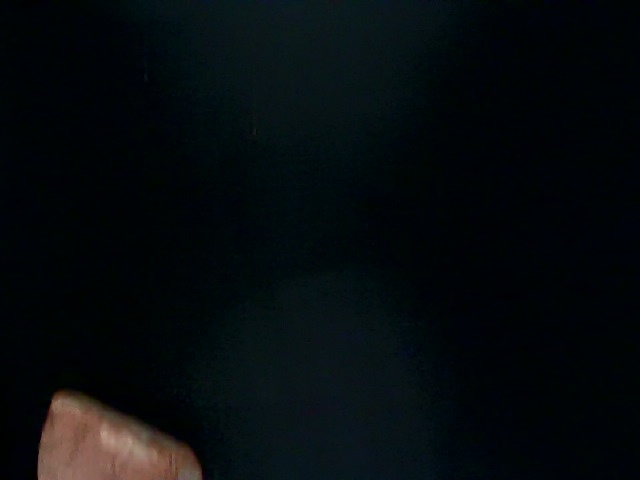KHSLJ: (88, 418, 282, 480)
